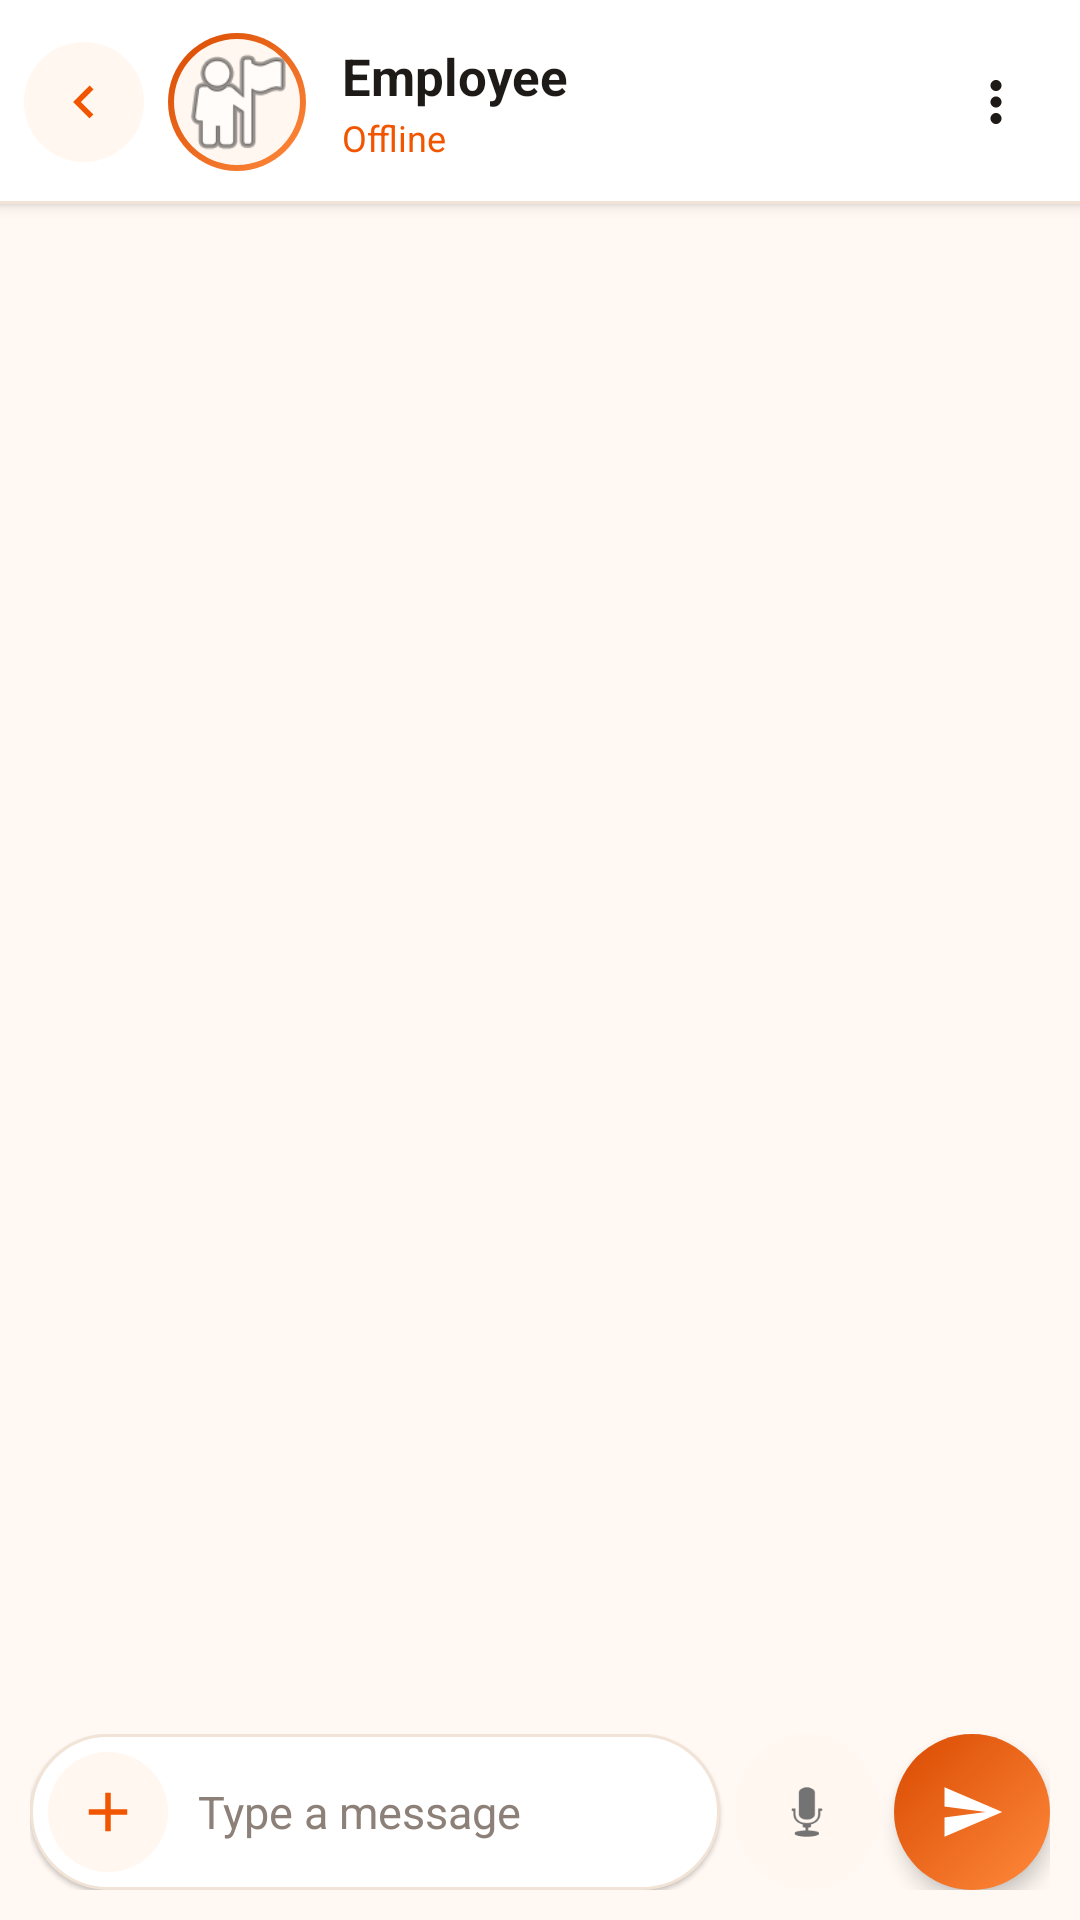

Icons on this 1080*1920 Android screen, each with its box as (x1, y1, x2, y2):
Attach file: (48, 1752, 168, 1872)
Back: (24, 42, 144, 162)
Chat options: (990, 80, 1002, 124)
Hold to record voice message: (791, 1787, 823, 1837)
Send message: (894, 1734, 1050, 1890)
View contact profile: (174, 39, 300, 165)
